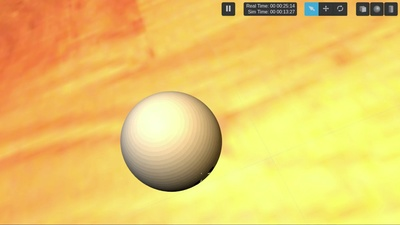mira_robot: (121, 91, 222, 192)
